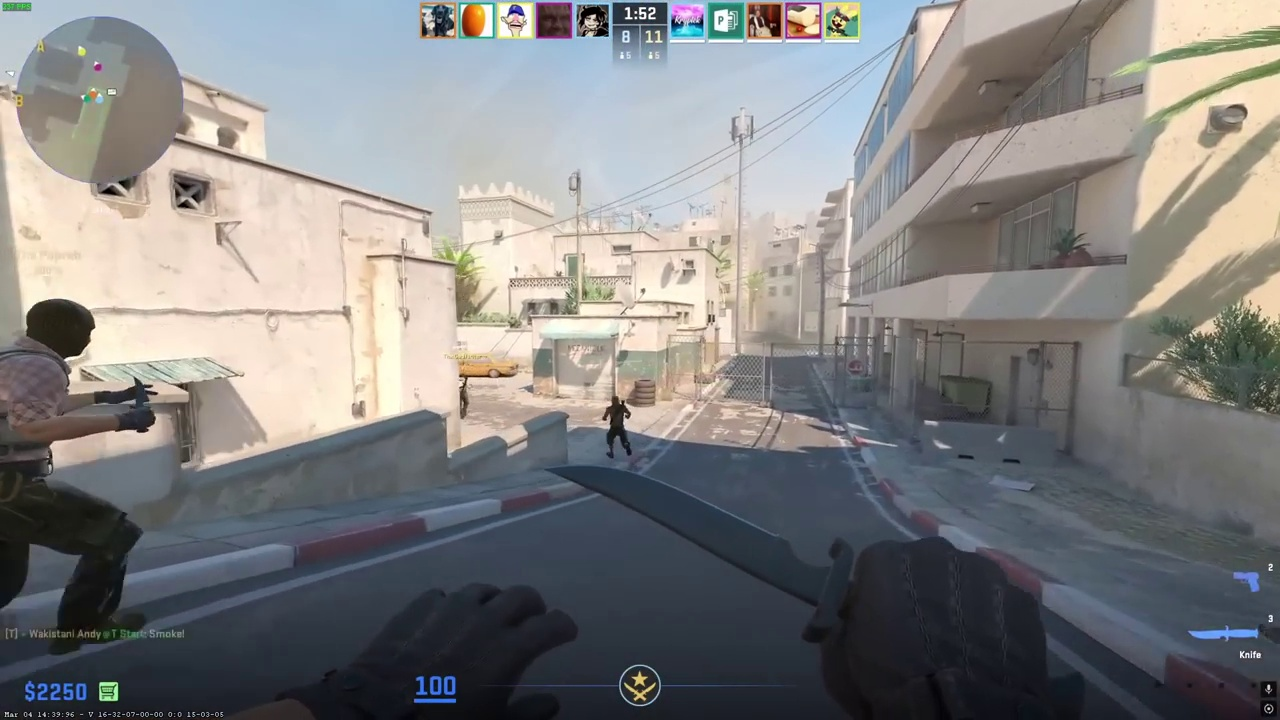Terrorist: (0, 295, 126, 719), (604, 396, 630, 459), (457, 373, 470, 419)
